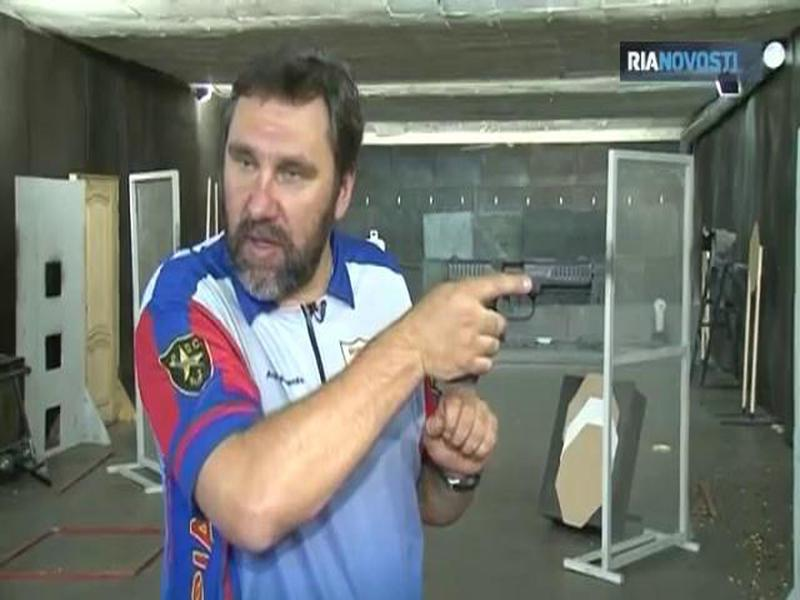Pistola: (417, 254, 601, 389)
